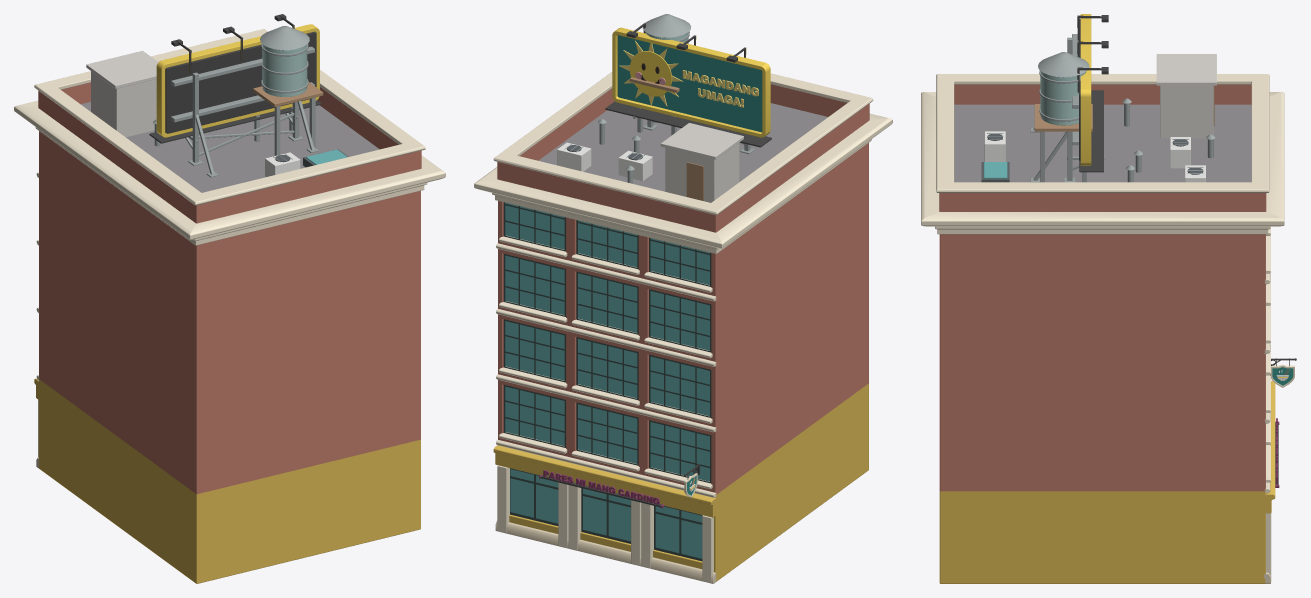
Rendered from far_loft_23.glb.
3 renders of one model, left to right at view 1: azimuth 30°, elevation 25°; view 2: azimuth 150°, elevation 25°; view 3: azimuth 270°, elevation 25°, orthographic. The views are drawn at different scales.
Visible parts, largest first — view 1: shell, trim, billboard_sun, props; view 2: shell, trim, billboard_sun, frames, props, billboard_sun_text, sign_pares_ni_mang_carding_text; view 3: shell, trim, props, billboard_sun, blade_bowl.
Boxes of the visible parts, x1,y1,x2,y2 form: shell: (39,102,420,583); trim: (14,29,445,468); billboard_sun: (149,14,321,177); props: (86,26,348,176); shell: (498,103,868,581); trim: (474,72,892,583); billboard_sun: (605,23,771,154); frames: (503,202,711,561); props: (557,14,743,202); billboard_sun_text: (682,70,758,107); sign_pares_ni_mang_carding_text: (543,470,659,504); shell: (939,104,1265,583); trim: (921,74,1284,583); props: (981,52,1216,182); billboard_sun: (1030,14,1108,182); blade_bowl: (1270,358,1296,387).
Bounding box in the file's own units: 13.1 × 23.3 × 16.13.
